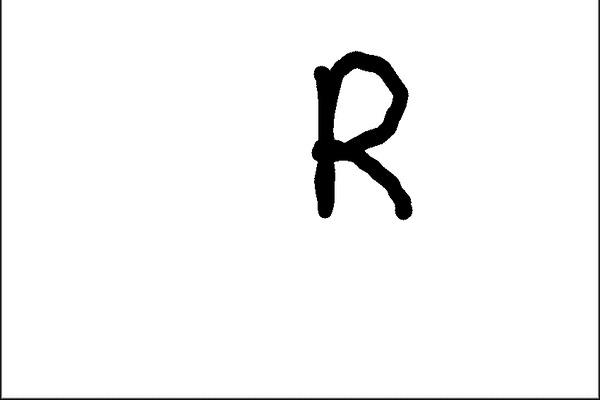R: (292, 46, 425, 233)
